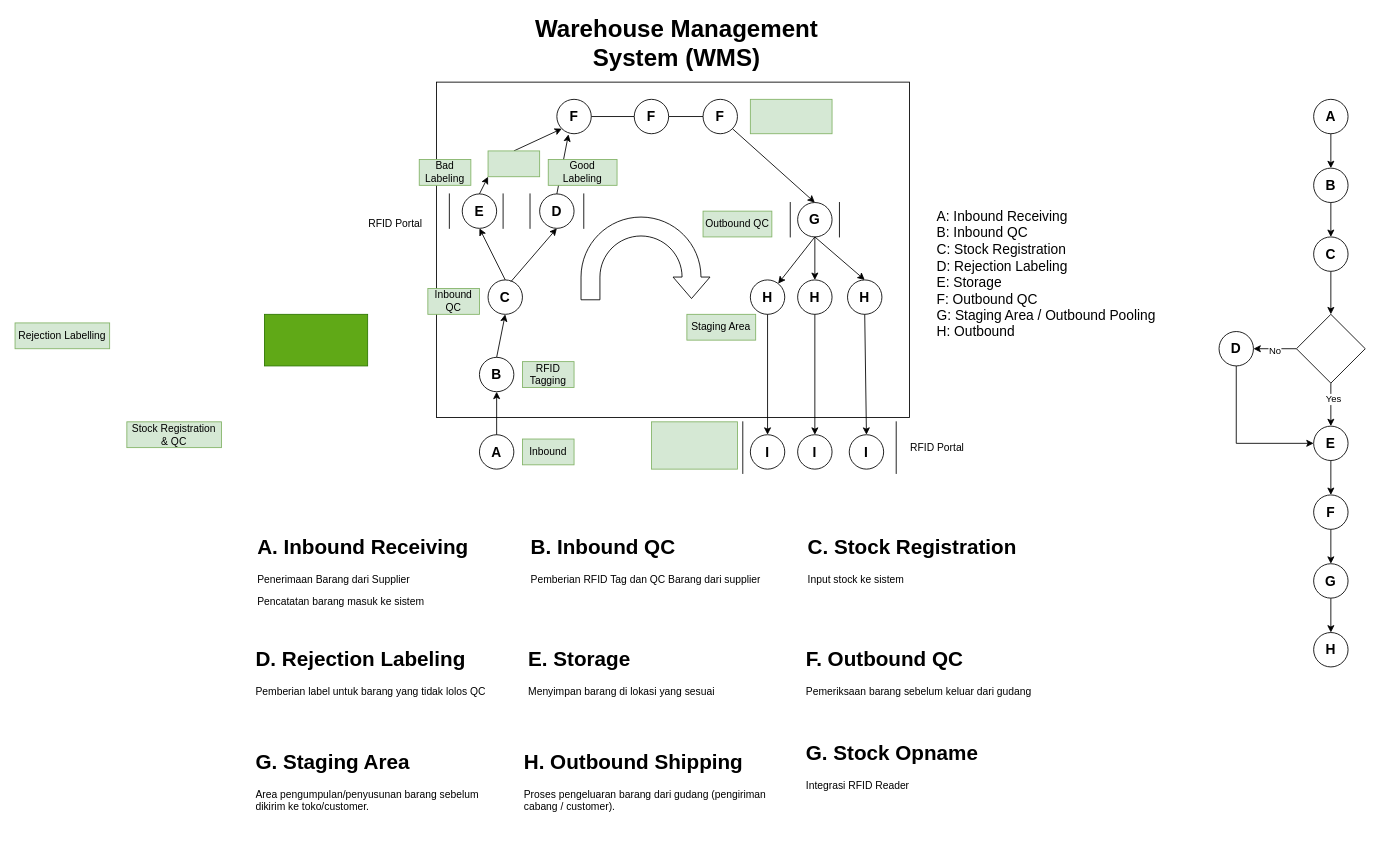
The diagram is 1380 pixels wide and 865 high, and some of its shapes have lost their labels. The shapes that lost their labels are listed below. From the top down, each one's centre as x and y in pixels, then its label:
At [790,116]: "storage location assignment".
At [513,163]: "Location Suggestion".
At [316,339]: "Penghitungan HPP".
At [1330,348]: "Ok?".
At [694,445]: "Outbound & Tag Release (e-commerce)".
